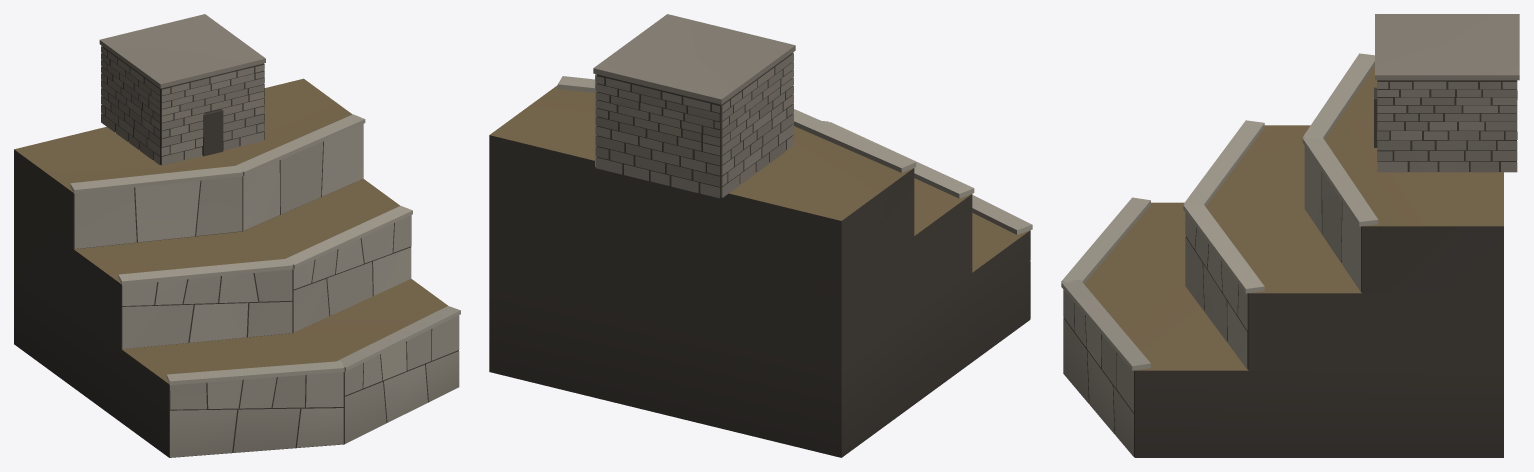
File: cusco_sacsay_square_lod1.glb
3 renders of one model, left to right at view 1: azimuth 30°, elevation 25°; view 2: azimuth 150°, elevation 25°; view 3: azimuth 270°, elevation 25°, orthographic. The views are drawn at different scales.
Parts seen in each view (by area): view 1: GEO-Arch_cusco_sacsay_square_LOD1; view 2: GEO-Arch_cusco_sacsay_square_LOD1; view 3: GEO-Arch_cusco_sacsay_square_LOD1.
Boxes of the visible parts, x1,y1,x2,y2 form: GEO-Arch_cusco_sacsay_square_LOD1: (14, 14, 460, 457); GEO-Arch_cusco_sacsay_square_LOD1: (489, 14, 1032, 457); GEO-Arch_cusco_sacsay_square_LOD1: (1061, 14, 1519, 457).
Size of the model in its own units: 14.07 by 12.8 by 16.14.
